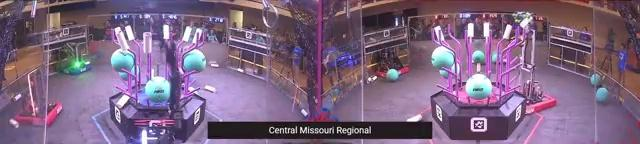reef: (429, 23, 527, 142), (108, 24, 206, 142)
robot: (135, 40, 185, 144), (517, 16, 556, 114), (14, 68, 64, 129), (375, 48, 409, 80), (60, 44, 91, 76)
